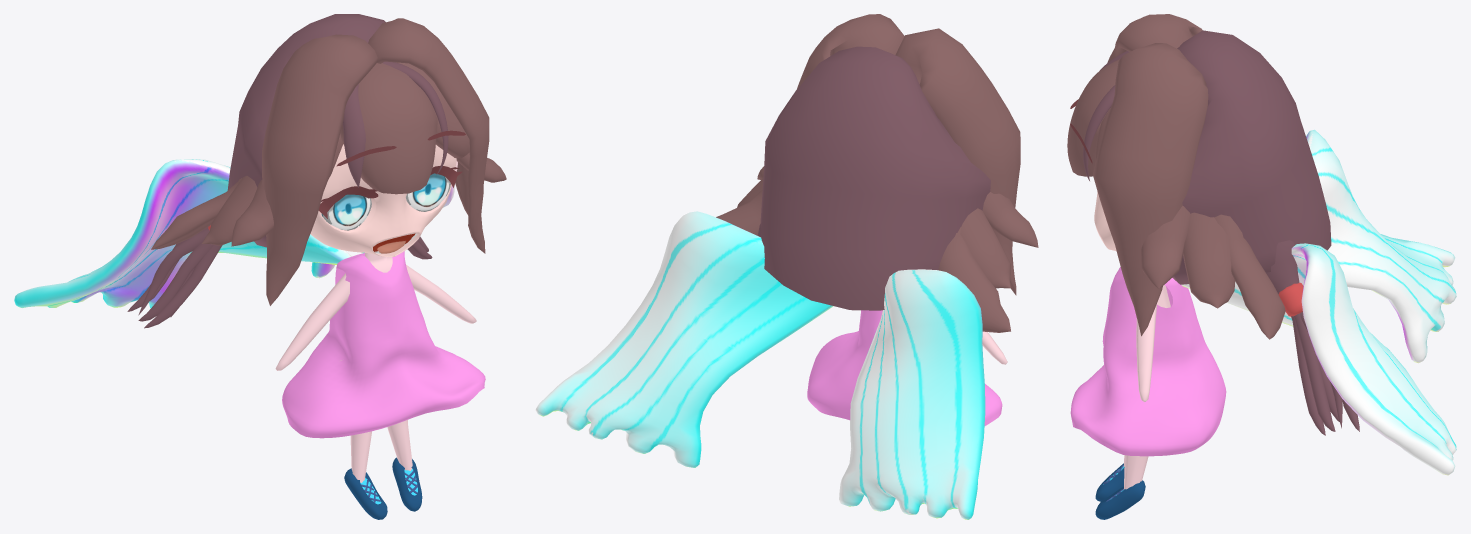
The model's file is myhuman2.glb.
3 views of the same model, side by side, from view 1: azimuth 30°, elevation 25°; view 2: azimuth 150°, elevation 25°; view 3: azimuth 270°, elevation 25° (orthographic). The views are drawn at different scales.
Visible parts, largest first — view 1: charrr, charrr-face; view 2: charrr; view 3: charrr.
Boxes of the visible parts, left/top/right/bottom form: charrr: left=14, top=14, right=506, bottom=519; charrr-face: left=321, top=173, right=450, bottom=253; charrr: left=535, top=14, right=1038, bottom=519; charrr: left=1067, top=14, right=1456, bottom=519.
Size of the model in its own units: 3.94 by 4.12 by 3.03.
13 materials, 13 textured.
